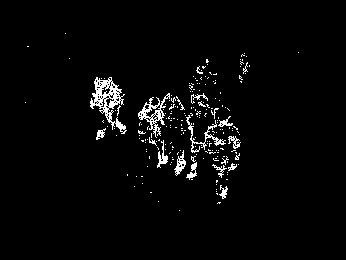person: (207, 105, 241, 203), (188, 91, 215, 183), (91, 74, 127, 142), (136, 92, 165, 172), (164, 89, 188, 179)
